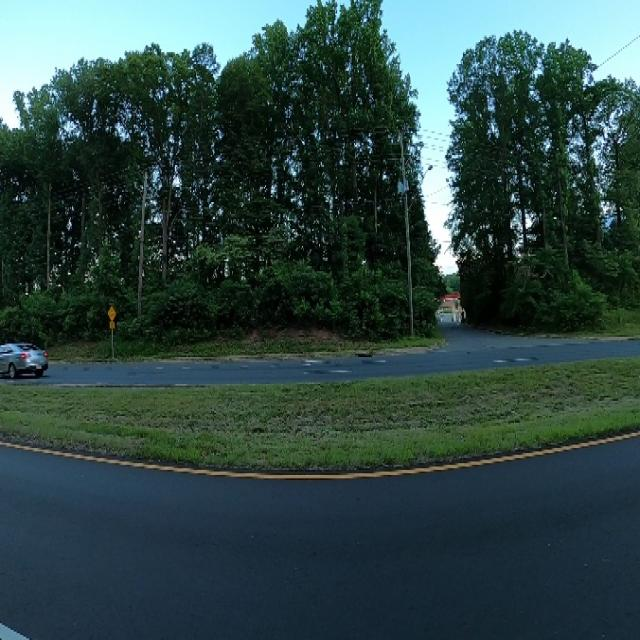car: (0, 327, 53, 382)
